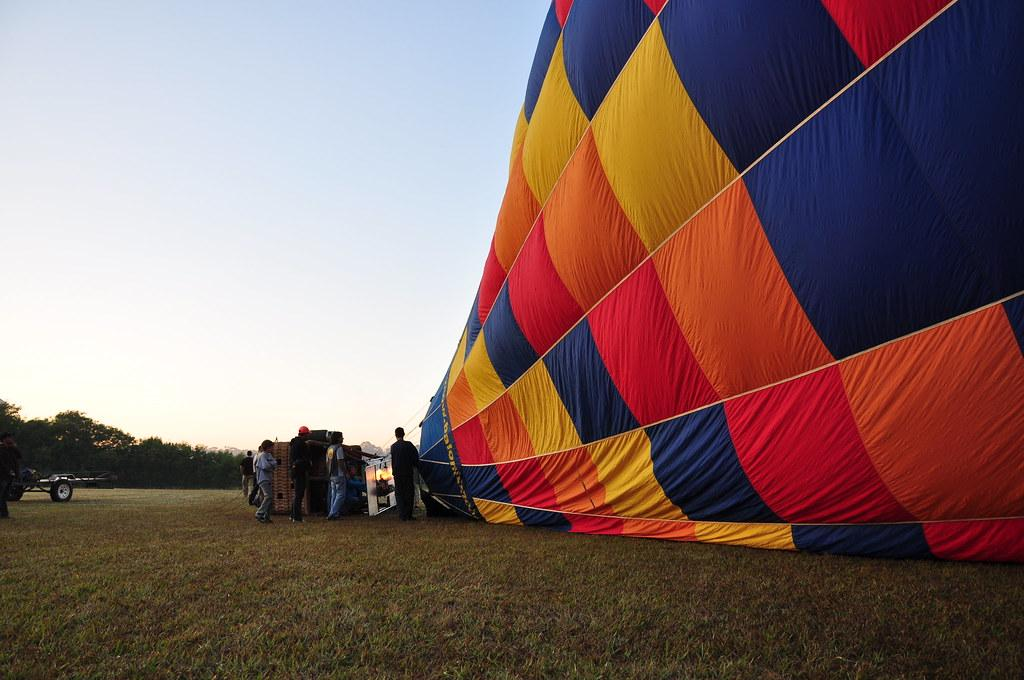balloon: (415, 1, 1023, 563)
